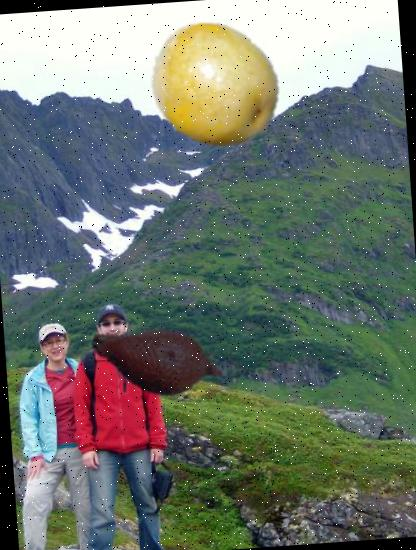Maracuja: (145, 13, 288, 156)
Salak: (86, 288, 228, 432)
